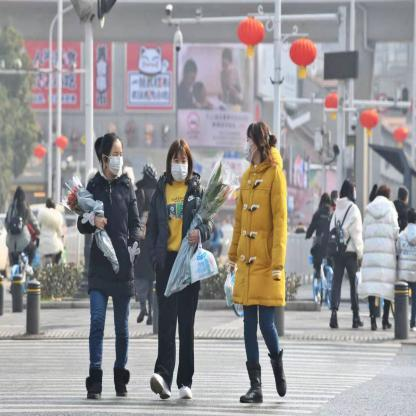Wearing_Mask: (241, 123, 274, 173), (166, 141, 194, 191), (100, 134, 125, 176)
